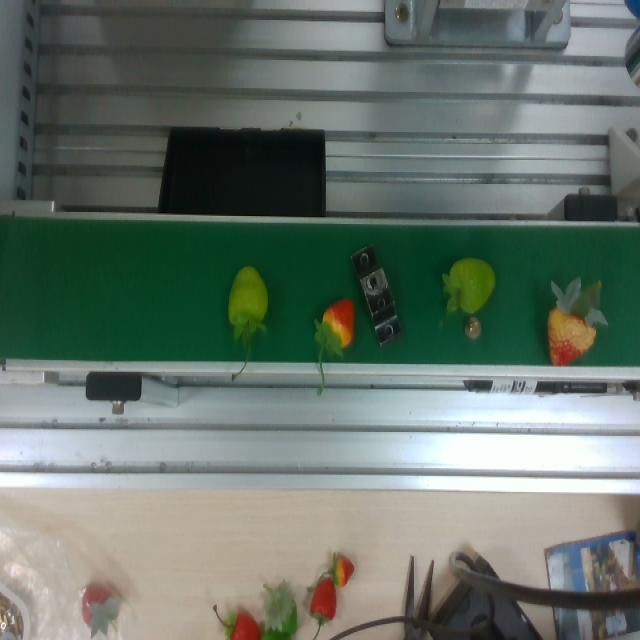Moldy Strawberry: (536, 277, 610, 371)
None - Strawberry: (356, 236, 404, 368)
Small Ripe Strawberry: (220, 258, 276, 356)
Small Unripe Strawberry: (435, 246, 500, 321), (306, 289, 357, 367)
conveyor: (0, 204, 640, 382)
